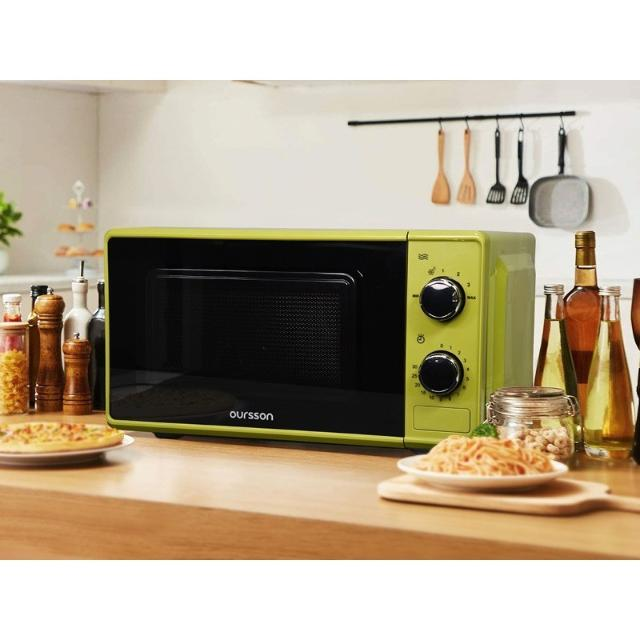Microwave: (100, 228, 542, 450)
